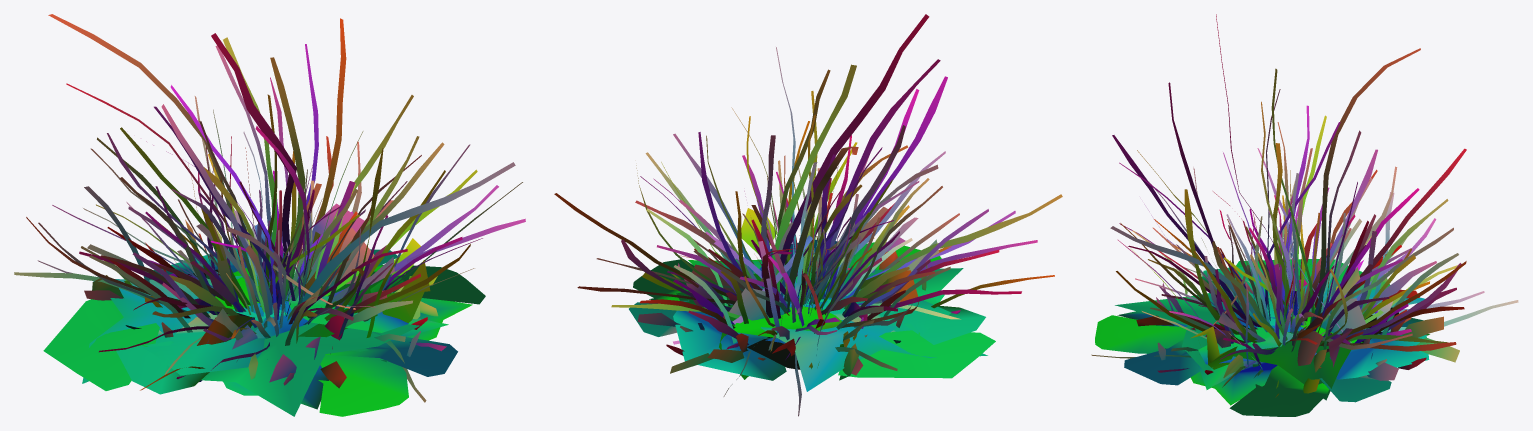
File: Wild_Grass_vdilbaiia_Mid_vdilbaiia_VarC_LOD1.fbx
3 renders of one model, left to right at view 1: azimuth 30°, elevation 25°; view 2: azimuth 150°, elevation 25°; view 3: azimuth 270°, elevation 25°, orthographic. The views are drawn at different scales.
Visible parts, largest first — view 1: _lzih_VarC_LOD2; view 2: _lzih_VarC_LOD2; view 3: _lzih_VarC_LOD2.
Boxes of the visible parts, left/top/right/bottom form: _lzih_VarC_LOD2: left=14, top=14, right=525, bottom=416; _lzih_VarC_LOD2: left=554, top=14, right=1062, bottom=416; _lzih_VarC_LOD2: left=1091, top=14, right=1518, bottom=416.
Bounding box in the file's own units: 87.97 × 69.64 × 91.52.
